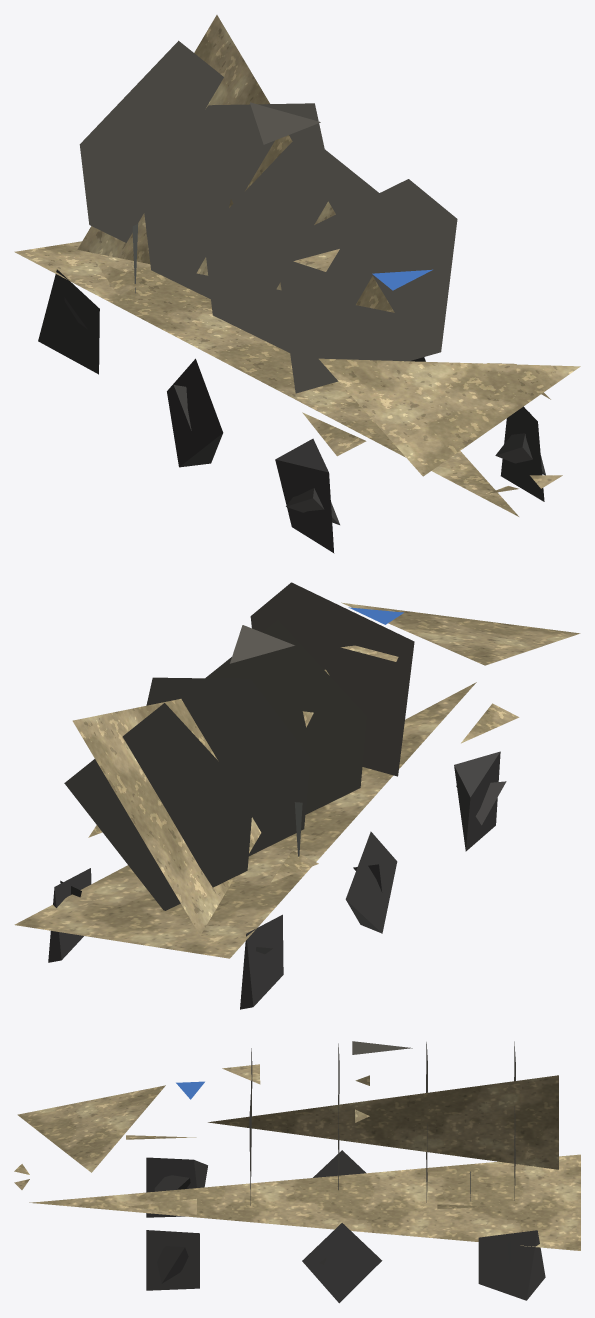
The model's file is log_e4_us_fueltruck_LOD2.glb.
The picture shows the model from 3 angles, top to bottom: view 1: azimuth 30°, elevation 25°; view 2: azimuth 150°, elevation 25°; view 3: azimuth 270°, elevation 25°; orthographic projection. The views are drawn at different scales.
Parts seen in each view (by area): view 1: log_e4_us_fueltruck_LOD2_deck, log_e4_us_fueltruck_LOD2_body, log_e4_us_fueltruck_LOD2_track; view 2: log_e4_us_fueltruck_LOD2_deck, log_e4_us_fueltruck_LOD2_body, log_e4_us_fueltruck_LOD2_track; view 3: log_e4_us_fueltruck_LOD2_body, log_e4_us_fueltruck_LOD2_track, log_e4_us_fueltruck_LOD2_deck.
Boxes of the visible parts, x1,y1,x2,y2 form: log_e4_us_fueltruck_LOD2_deck: [79, 40, 457, 393]; log_e4_us_fueltruck_LOD2_body: [14, 15, 580, 516]; log_e4_us_fueltruck_LOD2_track: [38, 269, 545, 553]; log_e4_us_fueltruck_LOD2_deck: [64, 582, 414, 910]; log_e4_us_fueltruck_LOD2_body: [14, 602, 580, 958]; log_e4_us_fueltruck_LOD2_track: [48, 751, 506, 1009]; log_e4_us_fueltruck_LOD2_body: [14, 1064, 580, 1250]; log_e4_us_fueltruck_LOD2_track: [146, 1150, 545, 1303]; log_e4_us_fueltruck_LOD2_deck: [249, 1041, 515, 1205].
Bounding box in the file's own units: 2.9 × 3.6 × 8.37.
Materials: 5 (1 with a texture image).
